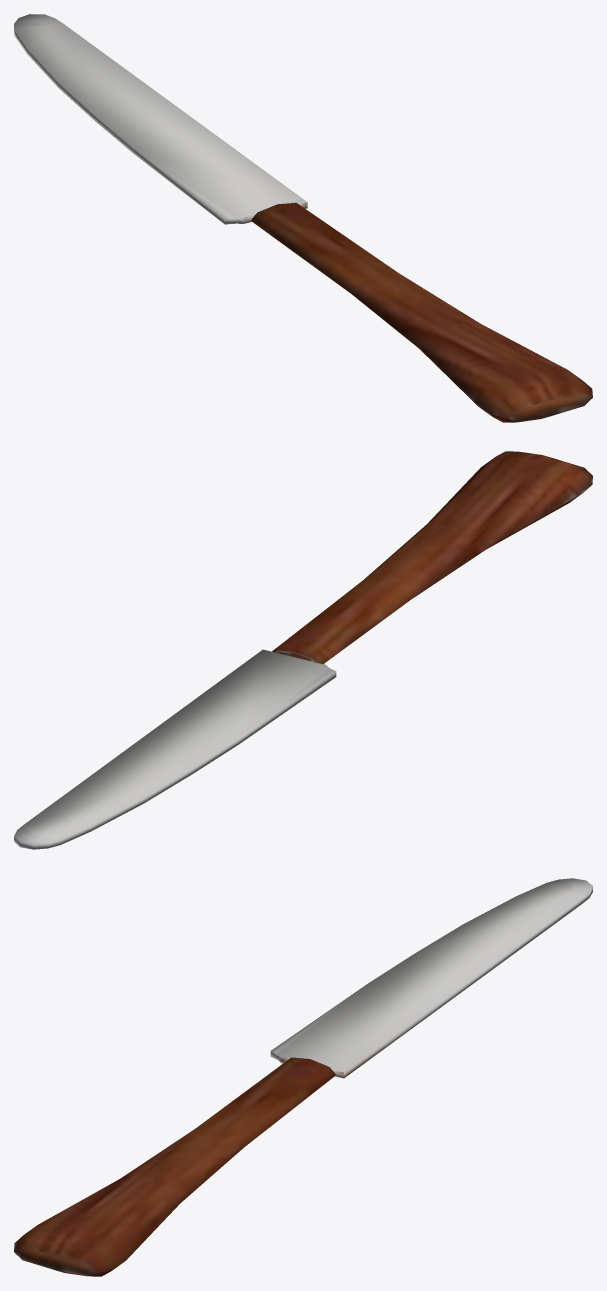
Rendered from M_Pisau.fbx.
3 views of the same model, one above another, from view 1: azimuth 30°, elevation 25°; view 2: azimuth 150°, elevation 25°; view 3: azimuth 330°, elevation 25° (orthographic).
Parts seen in each view (by area): view 1: SM_Knife; view 2: SM_Knife; view 3: SM_Knife.
Boxes of the visible parts, <box> form: SM_Knife: <box>14,14,592,422</box>; SM_Knife: <box>14,451,592,849</box>; SM_Knife: <box>14,878,592,1276</box>.
Bounding box in the file's own units: 2.23 × 0.8394 × 19.43.
